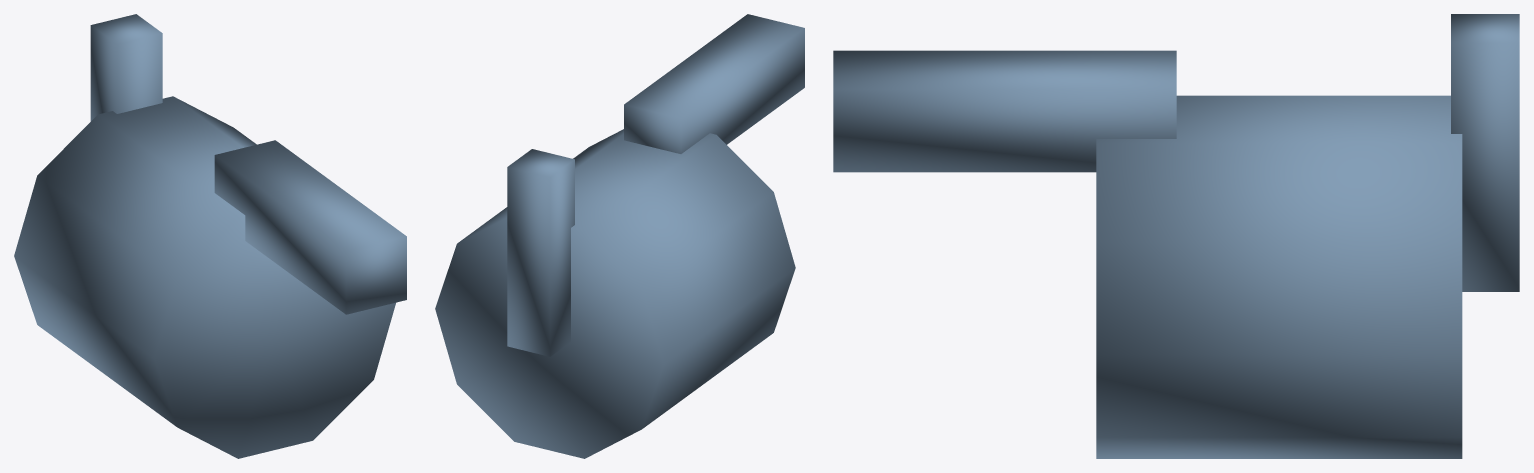
Rendered from prop_watering_can.glb.
The picture shows the model from 3 angles, left to right: view 1: azimuth 30°, elevation 25°; view 2: azimuth 150°, elevation 25°; view 3: azimuth 270°, elevation 25°; orthographic projection. The views are drawn at different scales.
Visible parts, largest first — view 1: body, spout, handle; view 2: body, spout, handle; view 3: body, spout, handle.
Boxes of the visible parts, x1,y1,x2,y2 form: body: (14,96,395,458); spout: (214,140,406,314); handle: (90,14,162,121); body: (435,129,795,458); spout: (624,14,804,153); handle: (507,149,574,356); body: (1096,95,1462,458); spout: (833,50,1176,172); handle: (1451,14,1519,291).
Size of the model in its own units: 0.16 by 0.1961 by 0.3.
